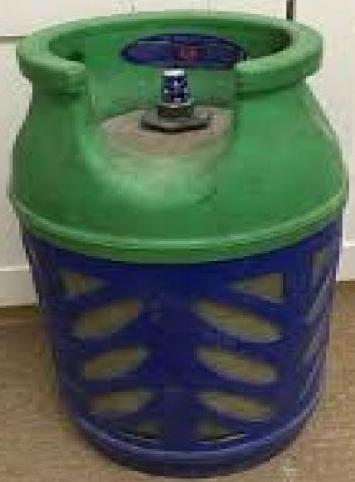cylinder: (1, 1, 355, 482)
